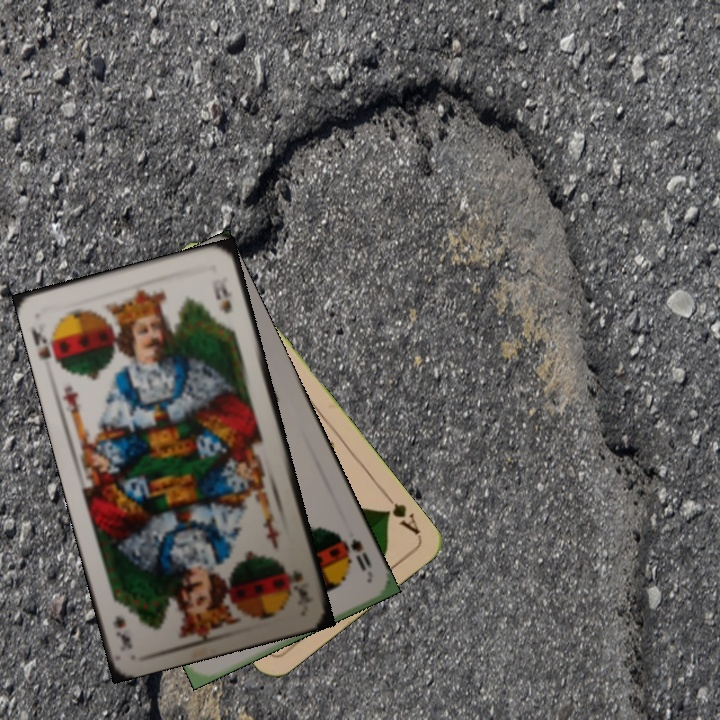GA: (379, 488, 423, 538)
SK: (27, 321, 65, 370), (284, 565, 310, 600)
SO: (334, 528, 375, 574)
